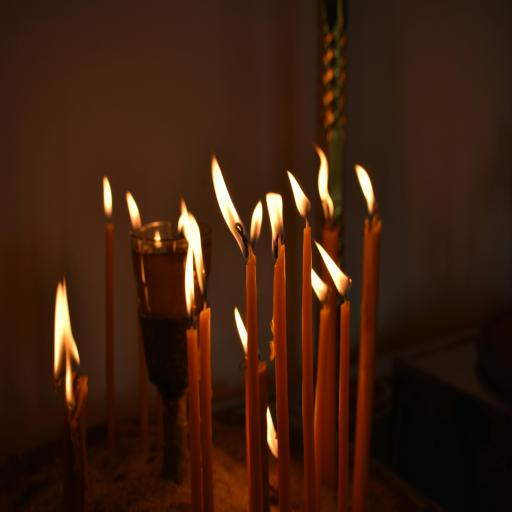fire: (292, 164, 349, 511), (230, 152, 267, 512), (350, 162, 382, 512), (53, 272, 86, 512), (268, 192, 292, 512), (126, 189, 154, 441), (191, 218, 214, 512), (289, 163, 317, 314), (102, 178, 117, 447), (176, 199, 206, 316)
